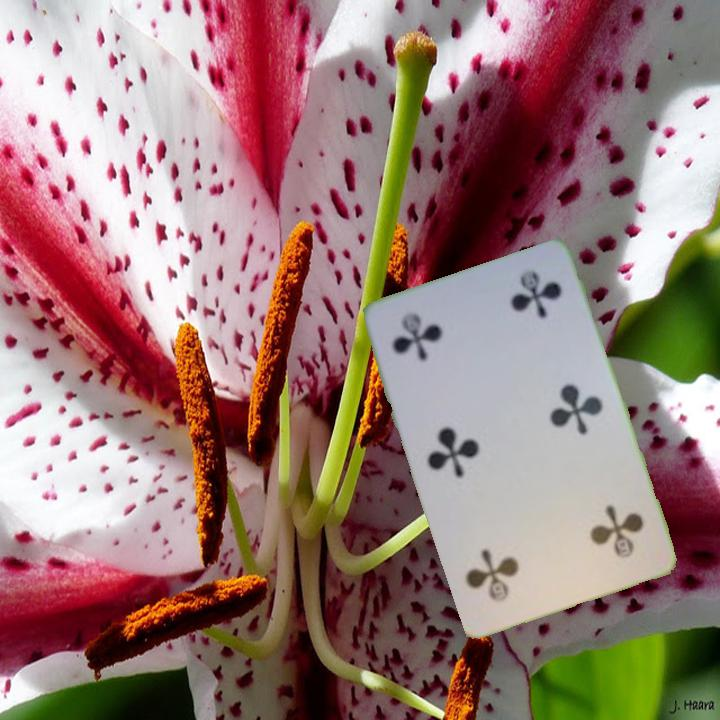c_6.png: (540, 479, 661, 591), (375, 286, 496, 397)
